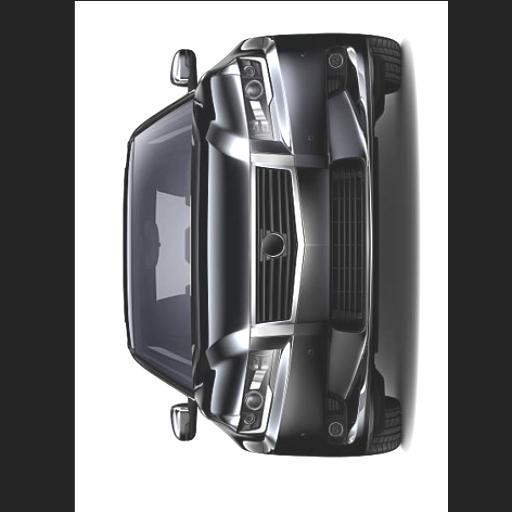sedan: (125, 34, 400, 457)
